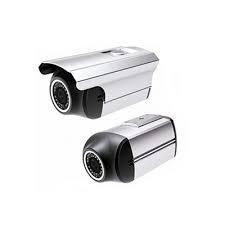tutu: (39, 40, 172, 134), (75, 105, 193, 207)
